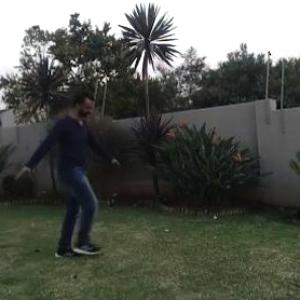land: (15, 82, 131, 271)
